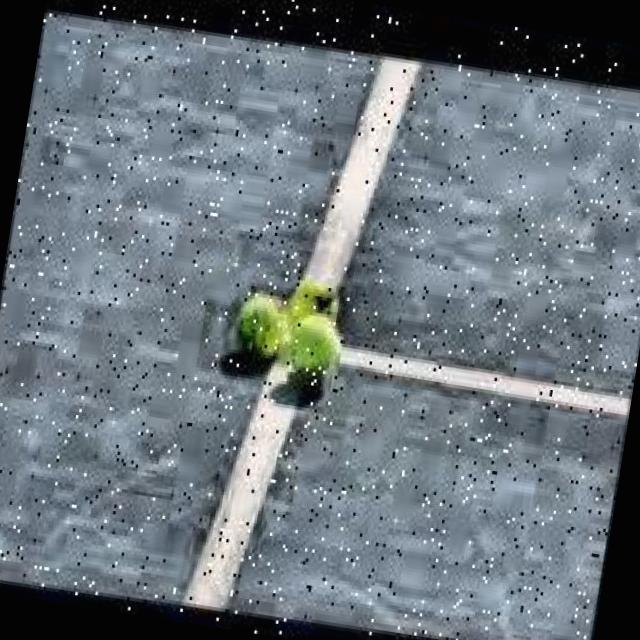Tennis Ball: (283, 318, 345, 395), (286, 278, 347, 345), (240, 294, 291, 359)
